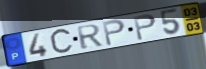4: (28, 32, 50, 58)
5: (159, 7, 182, 37)
C: (48, 26, 75, 56)
P: (101, 18, 127, 48), (132, 13, 158, 42)
R: (76, 23, 105, 51)
